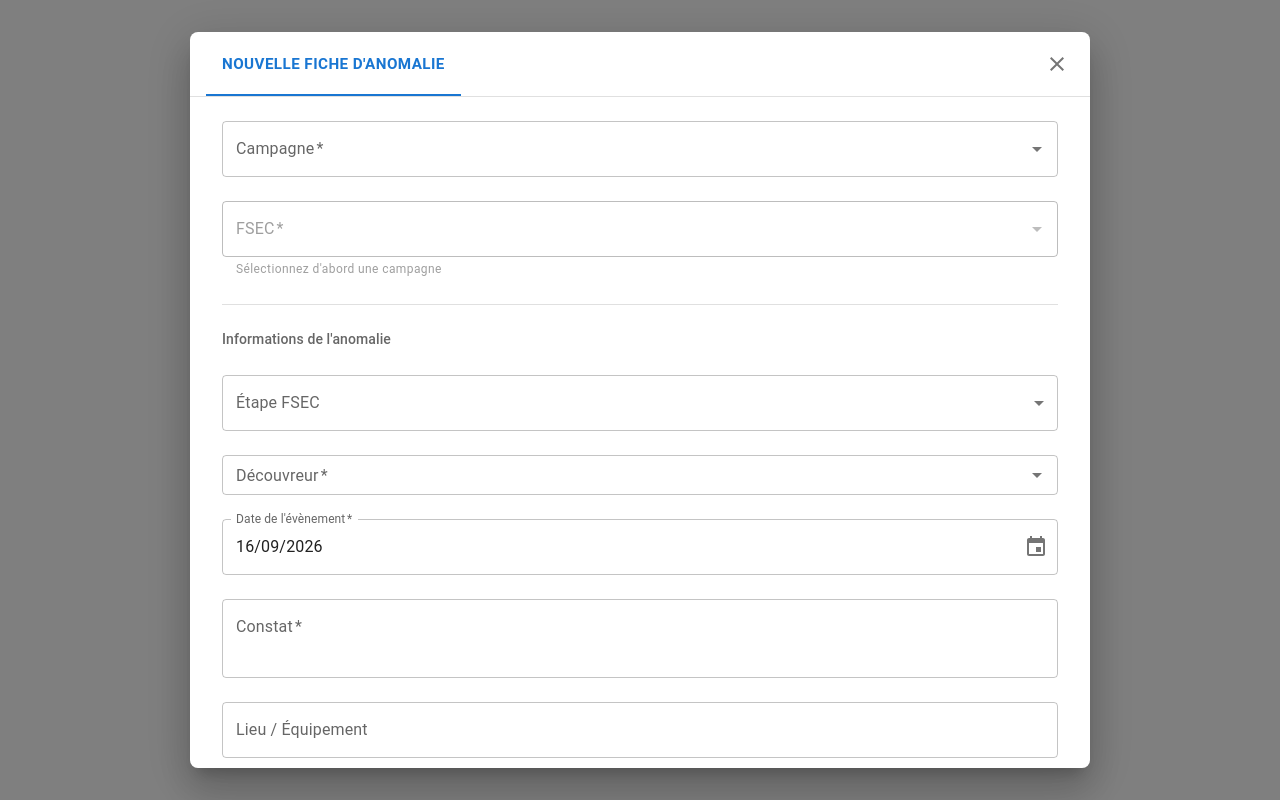
CreateFaModal › Form Validation › should show error when campaign is not selected
Click the dropdown labelled "Découvreur *" at [624, 475], box [228,461,1019,489]
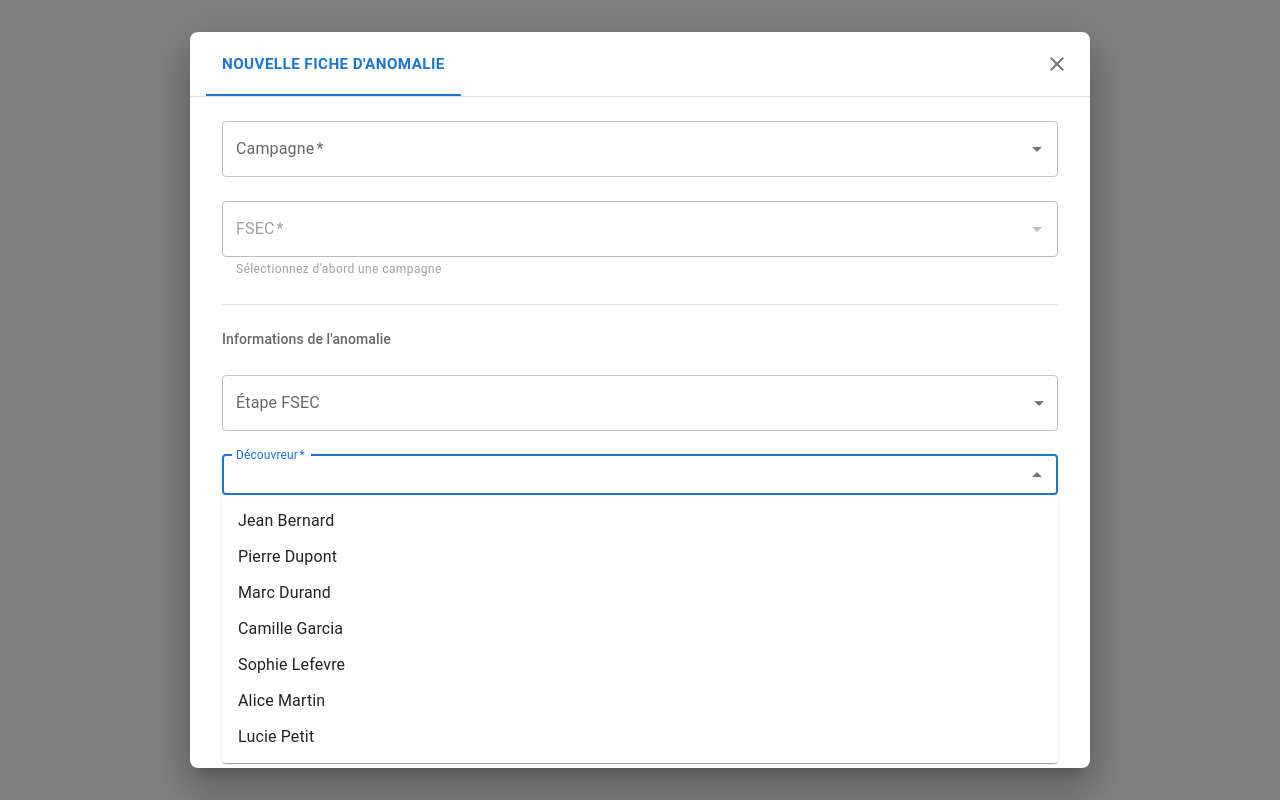
Click the option "Pierre Dupont" at [288, 556], box [238,547,337,566]
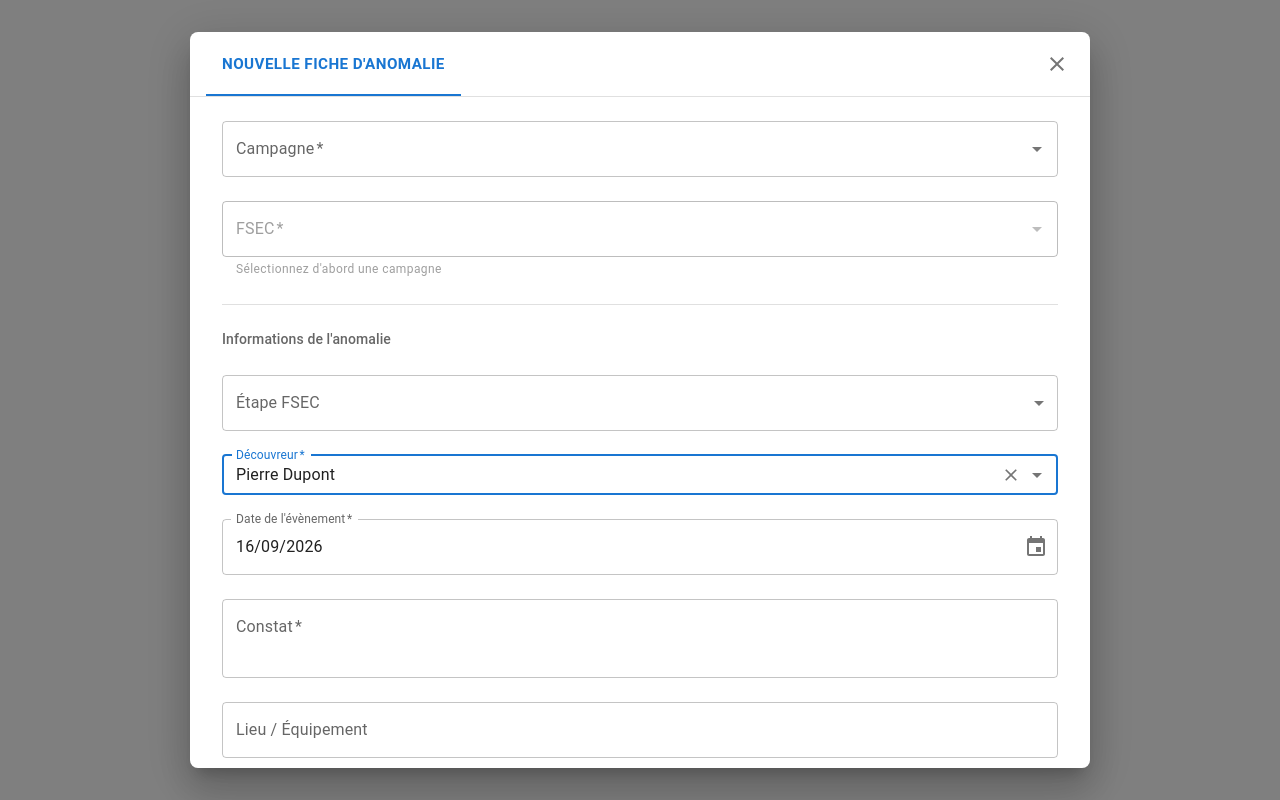
Type "Test observation" into the text box labelled "Constat *" at [640, 638], box [236,615,1044,661]
(page scrolled)
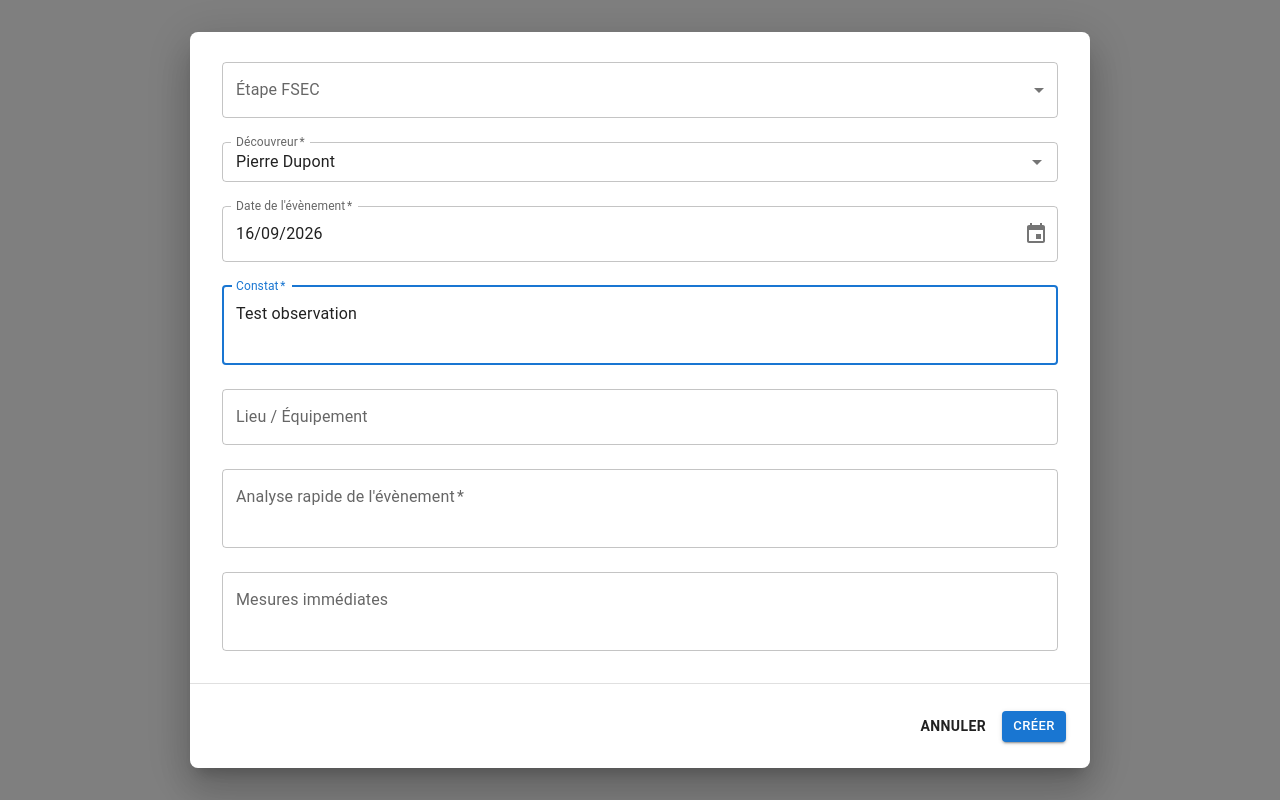
Type "Test analysis" into the text box labelled "Analyse rapide de l'évènement *" at [640, 508], box [236,485,1044,531]
(page scrolled)
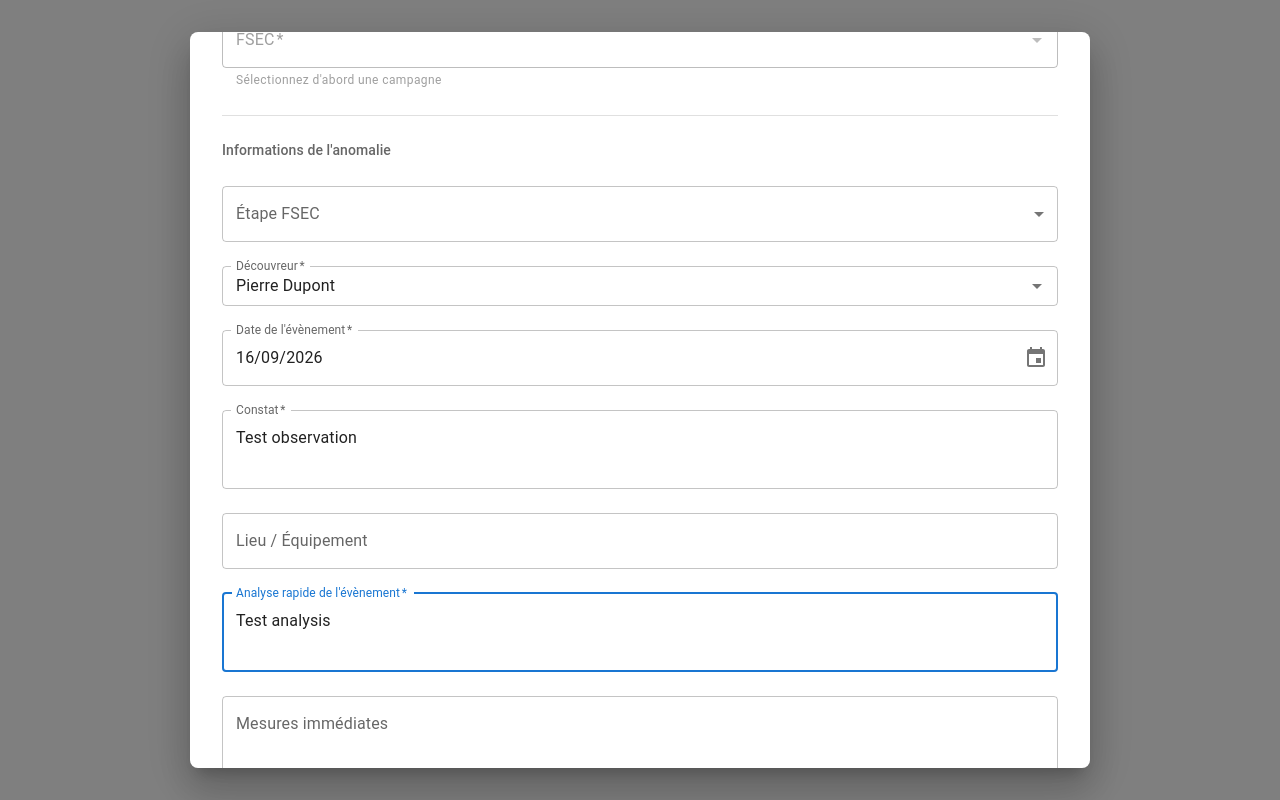
Submit the form with id "create-fa-form"
(page scrolled)
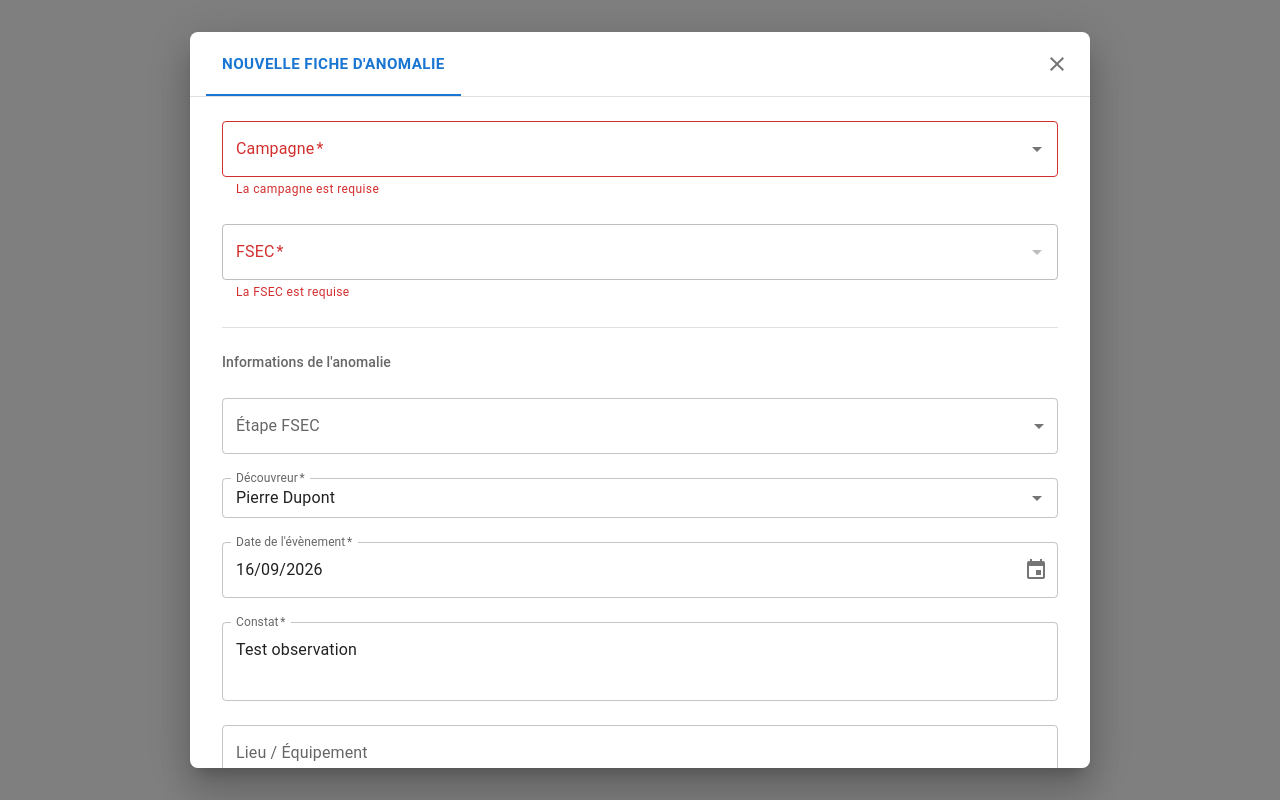
Result: the text "La campagne est requise" is shown at [236,182,379,196]
